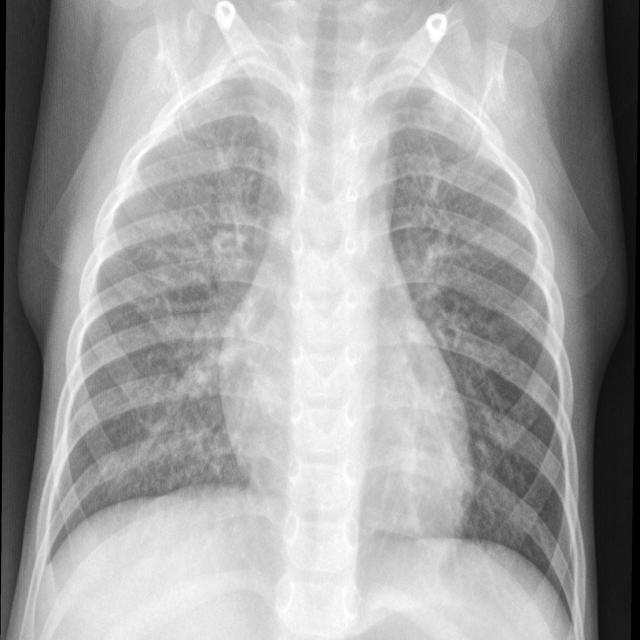low-pneumonia: (391, 152, 480, 362), (189, 137, 278, 319), (142, 309, 227, 475), (232, 55, 301, 161)
